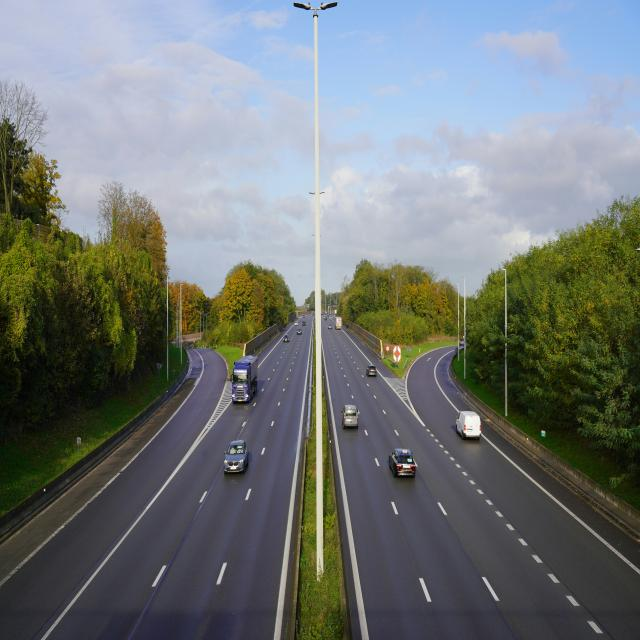Trucks: (232, 356, 258, 402), (336, 317, 341, 329)
